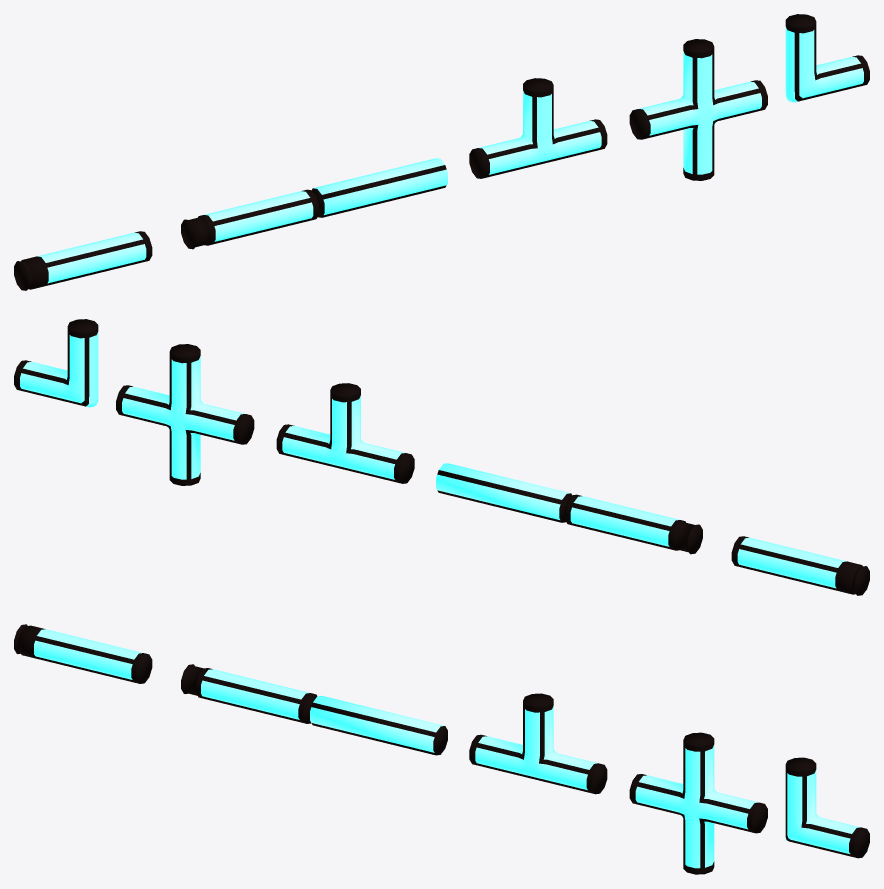
The model's file is Cables.fbx.
3 renders of one model, top to bottom at view 1: azimuth 30°, elevation 25°; view 2: azimuth 150°, elevation 25°; view 3: azimuth 330°, elevation 25°, orthographic.
Visible parts, largest first — view 1: ConexionParaCuatroCables.L1, ConexionParaTercerCable.L1.002, Esquina.L1, FinalDelCable.L1, InicioDeCable.L1, CentroDelCable.L1; view 2: ConexionParaCuatroCables.L1, ConexionParaTercerCable.L1.002, Esquina.L1, FinalDelCable.L1, InicioDeCable.L1, CentroDelCable.L1; view 3: ConexionParaCuatroCables.L1, ConexionParaTercerCable.L1.002, Esquina.L1, FinalDelCable.L1, CentroDelCable.L1, InicioDeCable.L1.
Boxes of the visible parts, box(x1,y1,x2,y2) form: ConexionParaCuatroCables.L1: box(629, 39, 767, 180); ConexionParaTercerCable.L1.002: box(469, 78, 607, 178); Esquina.L1: box(785, 14, 869, 102); FinalDelCable.L1: box(14, 231, 152, 290); InicioDeCable.L1: box(181, 189, 319, 249); CentroDelCable.L1: box(312, 158, 447, 217); ConexionParaCuatroCables.L1: box(116, 344, 254, 485); ConexionParaTercerCable.L1.002: box(276, 383, 414, 483); Esquina.L1: box(14, 319, 98, 407); FinalDelCable.L1: box(731, 536, 869, 595); InicioDeCable.L1: box(564, 494, 702, 554); CentroDelCable.L1: box(436, 463, 571, 522); ConexionParaCuatroCables.L1: box(629, 732, 767, 874); ConexionParaTercerCable.L1.002: box(469, 693, 607, 794); Esquina.L1: box(785, 757, 869, 858); FinalDelCable.L1: box(14, 624, 152, 683); CentroDelCable.L1: box(310, 695, 447, 755); InicioDeCable.L1: box(181, 664, 317, 723).
Size of the model in its own units: 375 by 54.95 by 11.46.
